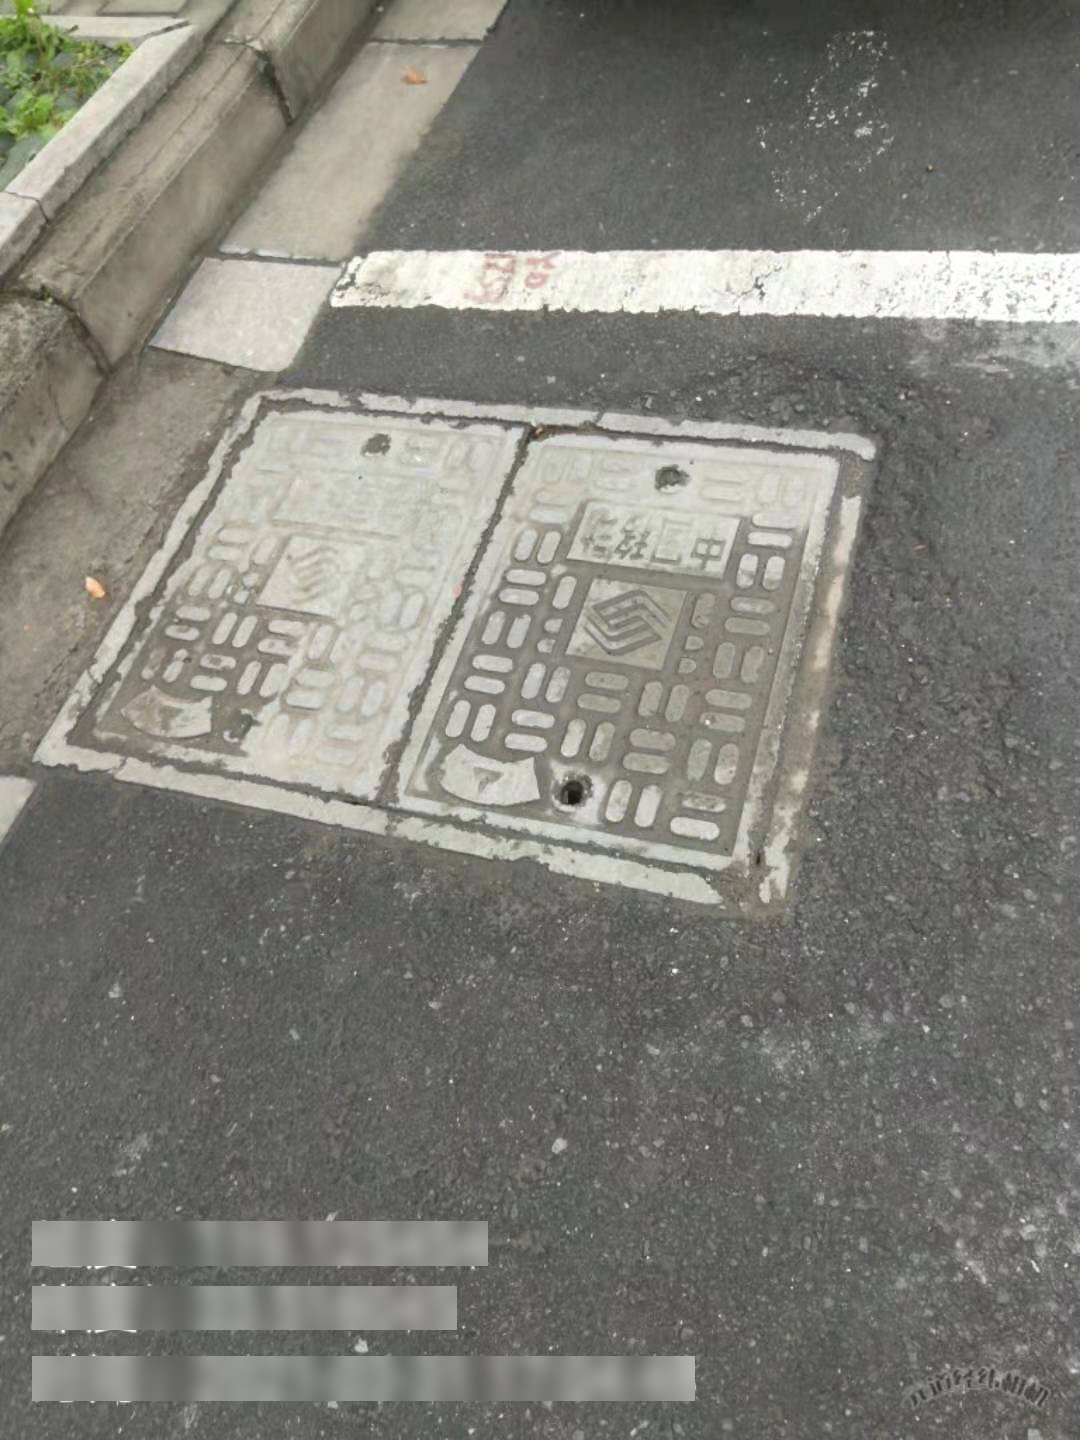good: (24, 390, 872, 910)
